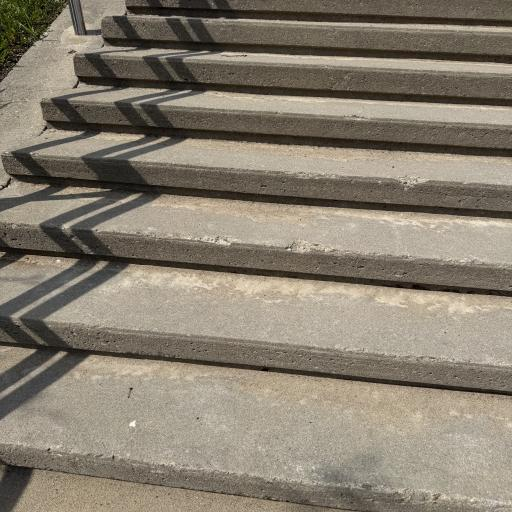Stairs: (0, 0, 512, 512), (0, 347, 512, 512), (0, 253, 512, 394)
